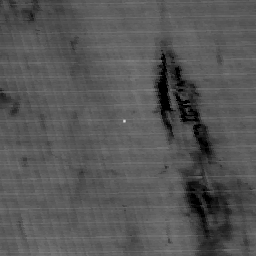Target: (120, 117, 127, 124)
